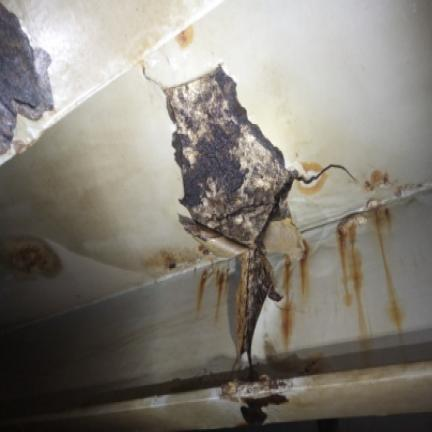karat: (164, 66, 306, 364), (0, 7, 52, 150)
